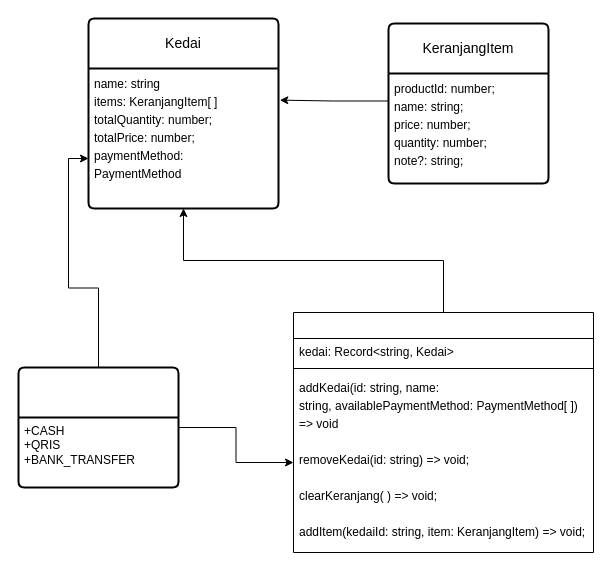
Image size: 611x572. Some labels were removed from this diagram. The box of each missing label's shape, as (x1, y1, x2, y2) in pixels:
KeranjangState: (292, 312, 594, 552)
PaymentMethod: (17, 366, 179, 488)
